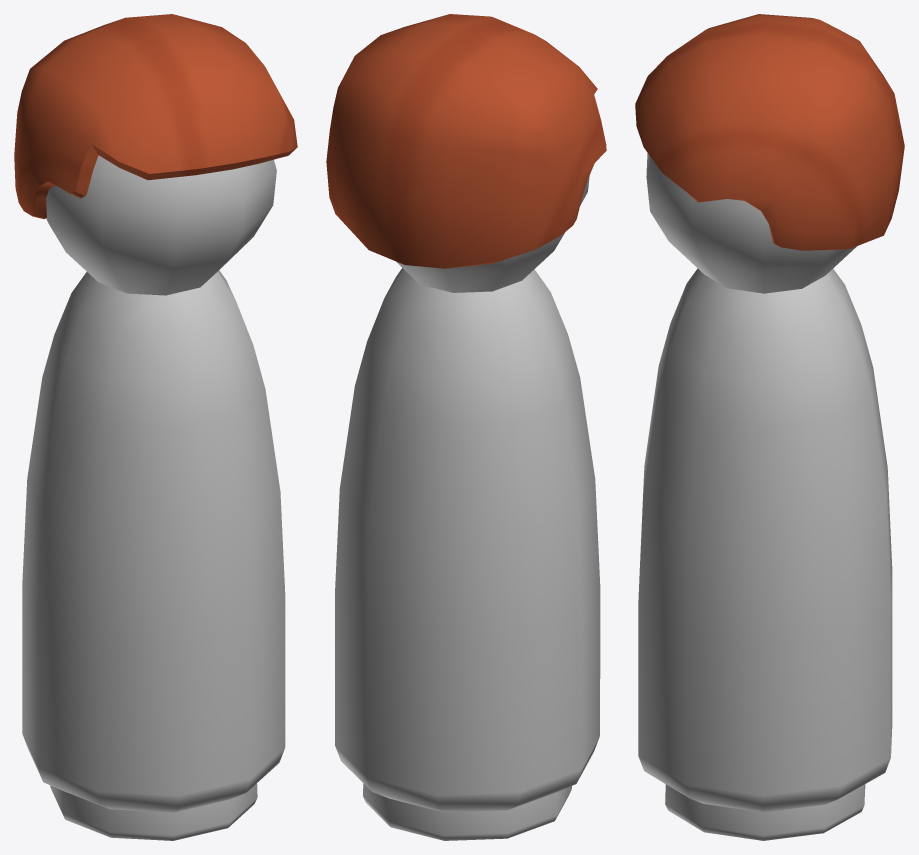
Rendered from Peg_Dress_Short_OrangeHair.fbx.
3 renders of one model, left to right at view 1: azimuth 30°, elevation 25°; view 2: azimuth 150°, elevation 25°; view 3: azimuth 270°, elevation 25°, orthographic.
Visible parts, largest first — view 1: Peg_Dress_Short_OrangeHair; view 2: Peg_Dress_Short_OrangeHair; view 3: Peg_Dress_Short_OrangeHair.
Part boxes in pixels (x1,y1,x2,y2): Peg_Dress_Short_OrangeHair: [14, 14, 297, 840]; Peg_Dress_Short_OrangeHair: [326, 14, 606, 840]; Peg_Dress_Short_OrangeHair: [635, 14, 904, 840].
Size of the model in its own units: 1.92 by 5.9 by 1.87.
